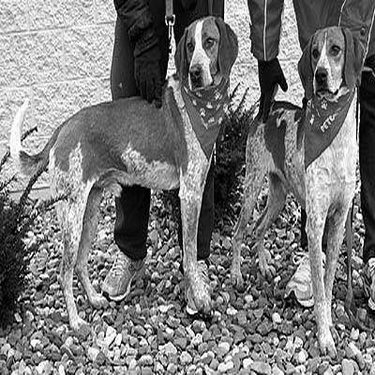dog: (1, 20, 249, 340), (214, 10, 367, 362)
